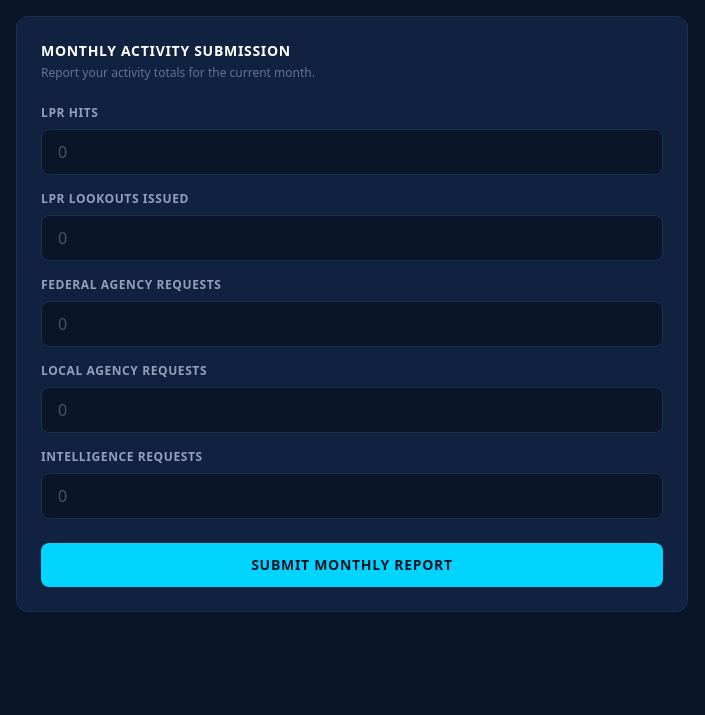
Test case: AnalystDashboard monthly submission › resets the form after a successful submission
The image size is (705, 715).
Type "42" into the number field labelled "LPR Hits".
click(352, 152); type("42")  # box [41, 129, 663, 175]
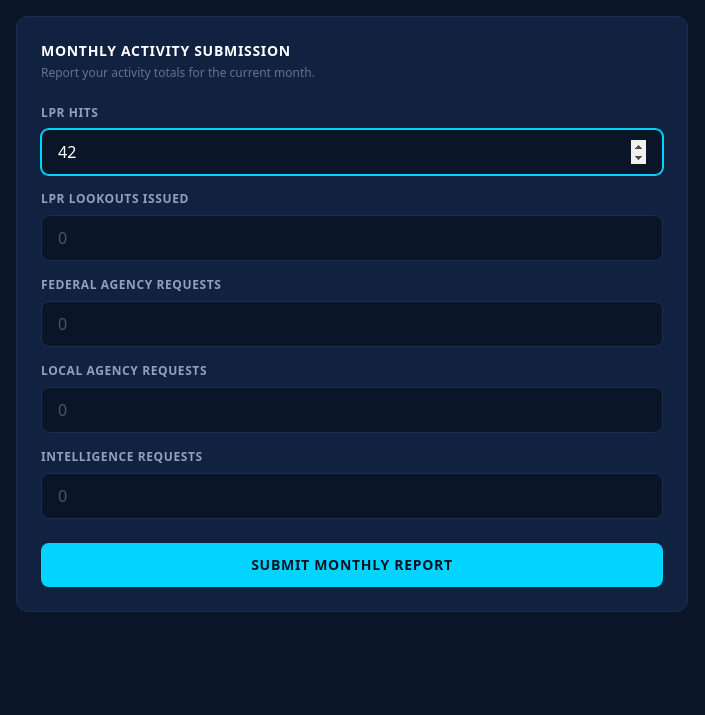
Type "1" into the number field labelled "LPR Lookouts Issued".
click(352, 238); type("1")  # box [41, 215, 663, 261]
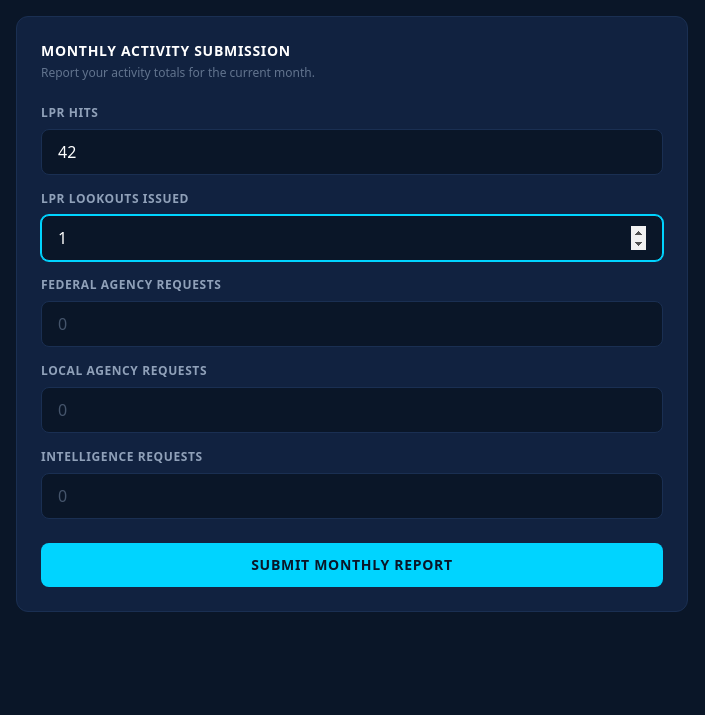
Type "1" into the number field labelled "Federal Agency Requests".
click(352, 324); type("1")  # box [41, 301, 663, 347]
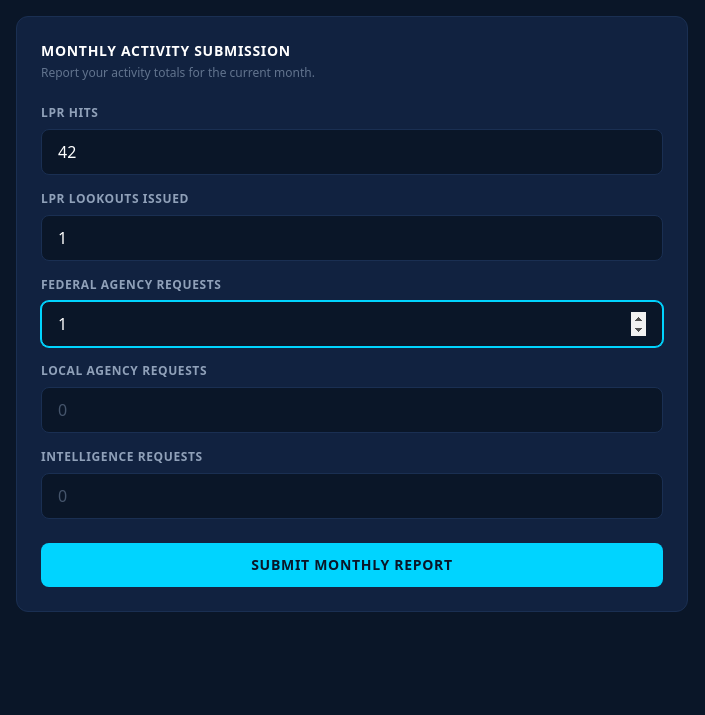
Type "1" into the number field labelled "Local Agency Requests".
click(352, 410); type("1")  # box [41, 387, 663, 433]
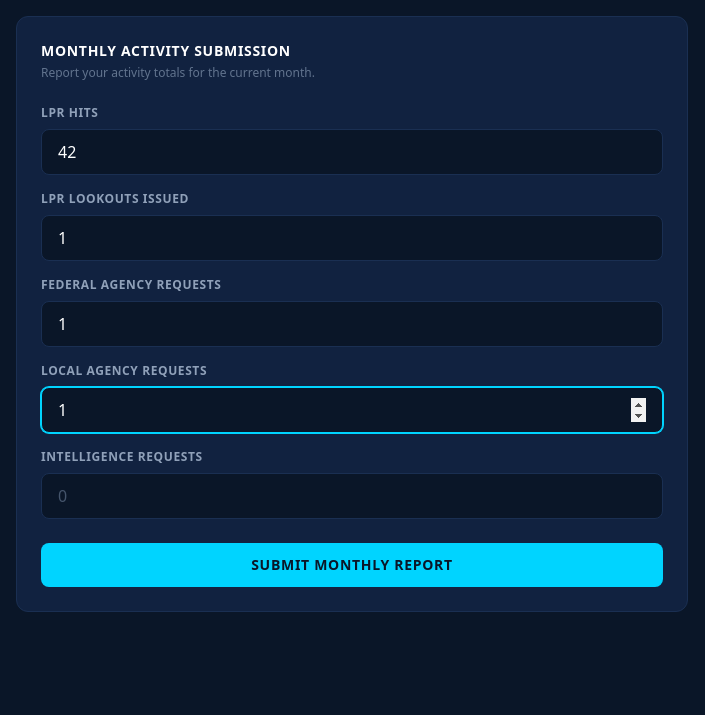
Type "1" into the number field labelled "Intelligence Requests".
click(352, 496); type("1")  # box [41, 473, 663, 519]
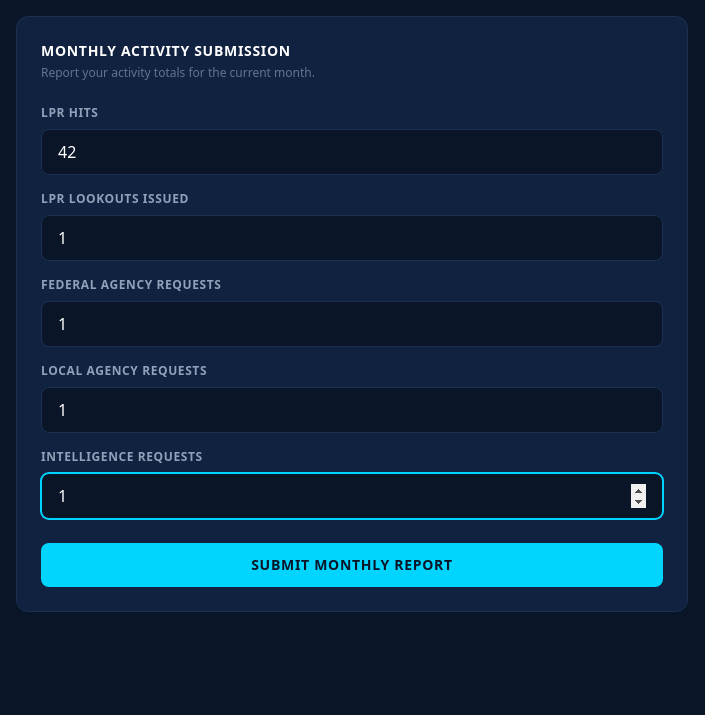
Click the button "Submit Monthly Report".
click(352, 565)  # box [41, 543, 663, 587]
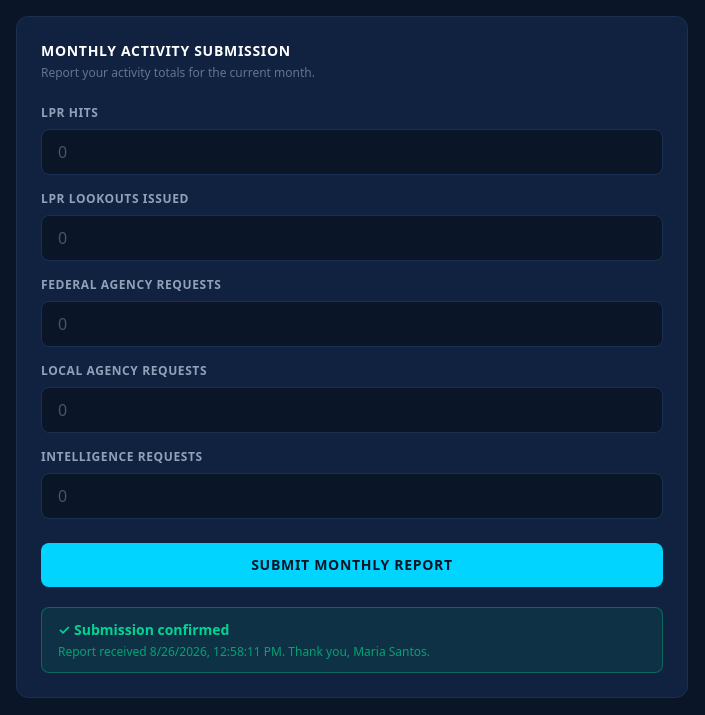
Expected: the text "✓ Submission confirmed" is shown, [58, 620, 230, 639]
Expected: the number field labelled "LPR Hits" is not empty, [41, 129, 663, 175]
